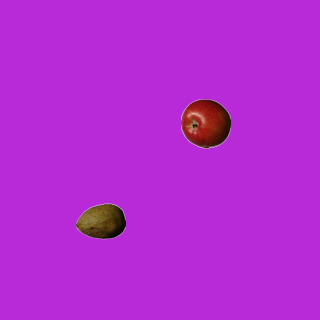Apple Braeburn: (180, 98, 230, 148)
Papaya: (75, 196, 125, 246)
